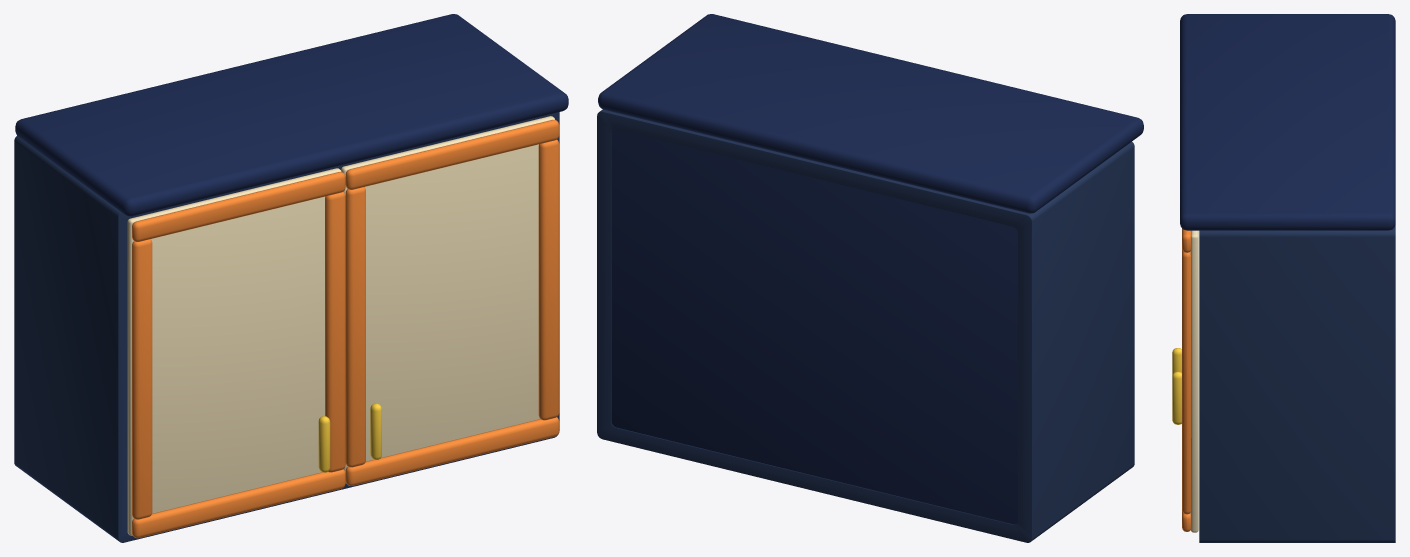
Rendered from armario_parede_2portas_grafite_noite.glb.
3 views of the same model, side by side, from view 1: azimuth 30°, elevation 25°; view 2: azimuth 150°, elevation 25°; view 3: azimuth 270°, elevation 25° (orthographic). The views are drawn at different scales.
Parts seen in each view (by area): view 1: armario_parede_2portas_grafite_noite, porta_1, porta_2; view 2: armario_parede_2portas_grafite_noite; view 3: armario_parede_2portas_grafite_noite, porta_2.
Boxes of the visible parts, x1,y1,x2,y2 form: armario_parede_2portas_grafite_noite: [14, 14, 568, 542]; porta_1: [127, 168, 345, 538]; porta_2: [341, 116, 559, 485]; armario_parede_2portas_grafite_noite: [597, 14, 1143, 542]; armario_parede_2portas_grafite_noite: [1180, 14, 1395, 542]; porta_2: [1172, 228, 1198, 532].
Size of the model in its own units: 0.798 by 0.6 by 0.3687.
1 material, 1 textured.
